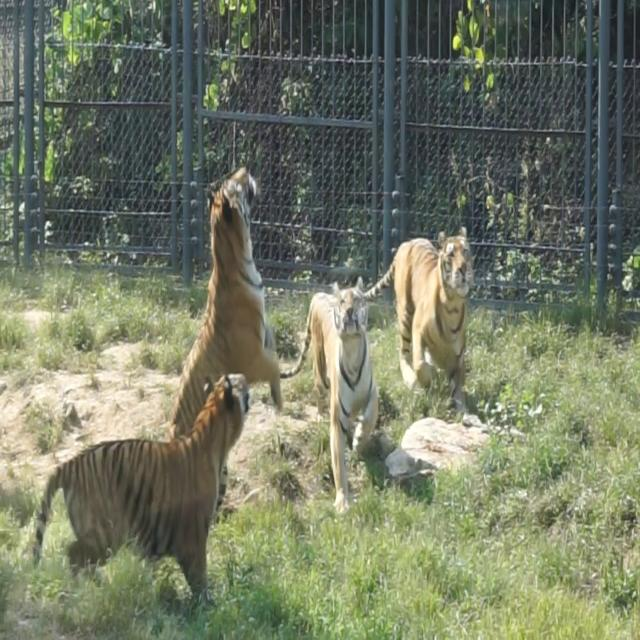Tiger: (28, 370, 249, 605), (166, 165, 285, 441), (367, 222, 473, 412), (296, 263, 378, 505)
